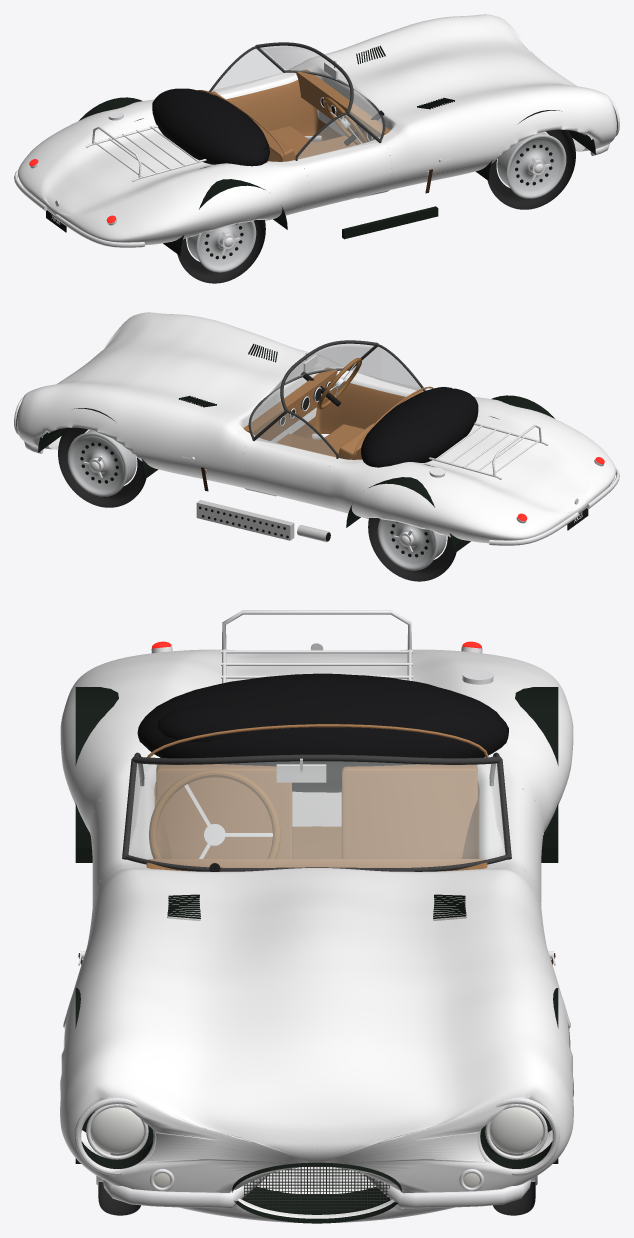
File: xkss.glb
3 renders of one model, top to bottom at view 1: azimuth 30°, elevation 25°; view 2: azimuth 150°, elevation 25°; view 3: azimuth 270°, elevation 25°, orthographic. The views are drawn at different scales.
Visible parts, largest first — view 1: XKSS_Body, FoldedHood, Wheel_FR, Wheel_RR, Windscreen, Dashboard, SideScreen, SideScreen.001, SillStep_R, WheelWell_RR, Tunnel, SeatBack (+7 smaller); view 2: XKSS_Body, FoldedHood, Wheel_FL, Wheel_RL, Windscreen, Dashboard, HeatShield, SideScreen.001, SideScreen, WheelWell_RL, Tunnel, ScreenFrameTop (+6 smaller); view 3: XKSS_Body, Windscreen, FoldedHood, SeatBack.001, SeatBack, GrilleMesh, GrilleDuct, FoldedHoodRoll, Dashboard, ScreenFrameTop, WheelWell_RR, WheelWell_RL (+13 smaller).
Part boxes in pixels (x1,y1,x2,y2): XKSS_Body: [18, 14, 616, 245]; FoldedHood: [152, 88, 269, 166]; Wheel_FR: [487, 129, 575, 209]; Wheel_RR: [177, 220, 265, 283]; Windscreen: [259, 46, 382, 138]; Dashboard: [296, 69, 390, 142]; SideScreen: [298, 115, 378, 158]; SideScreen.001: [212, 48, 282, 92]; SillStep_R: [342, 206, 438, 239]; WheelWell_RR: [163, 166, 287, 255]; Tunnel: [293, 136, 355, 159]; SeatBack: [258, 125, 295, 161]; XKSS_Body: [17, 312, 615, 543]; FoldedHood: [361, 388, 478, 467]; Wheel_FL: [58, 427, 146, 507]; Wheel_RL: [368, 518, 456, 581]; Windscreen: [251, 344, 374, 436]; Dashboard: [243, 367, 337, 440]; HeatShield: [196, 500, 294, 540]; SideScreen.001: [256, 413, 335, 456]; SideScreen: [351, 347, 421, 390]; WheelWell_RL: [346, 464, 470, 553]; Tunnel: [276, 434, 340, 457]; ScreenFrameTop: [280, 340, 378, 411]; XKSS_Body: [60, 649, 573, 1222]; Windscreen: [128, 761, 505, 867]; FoldedHood: [137, 673, 508, 792]; SeatBack.001: [341, 764, 477, 858]; SeatBack: [156, 764, 292, 858]; GrilleMesh: [243, 1166, 389, 1213]; GrilleDuct: [232, 1162, 401, 1223]; FoldedHoodRoll: [157, 700, 269, 742]; Dashboard: [146, 859, 487, 871]; ScreenFrameTop: [132, 754, 501, 764]; WheelWell_RR: [75, 687, 186, 862]; WheelWell_RL: [515, 687, 558, 862].
Size of the model in its own units: 3.86 by 1.08 by 1.66.
